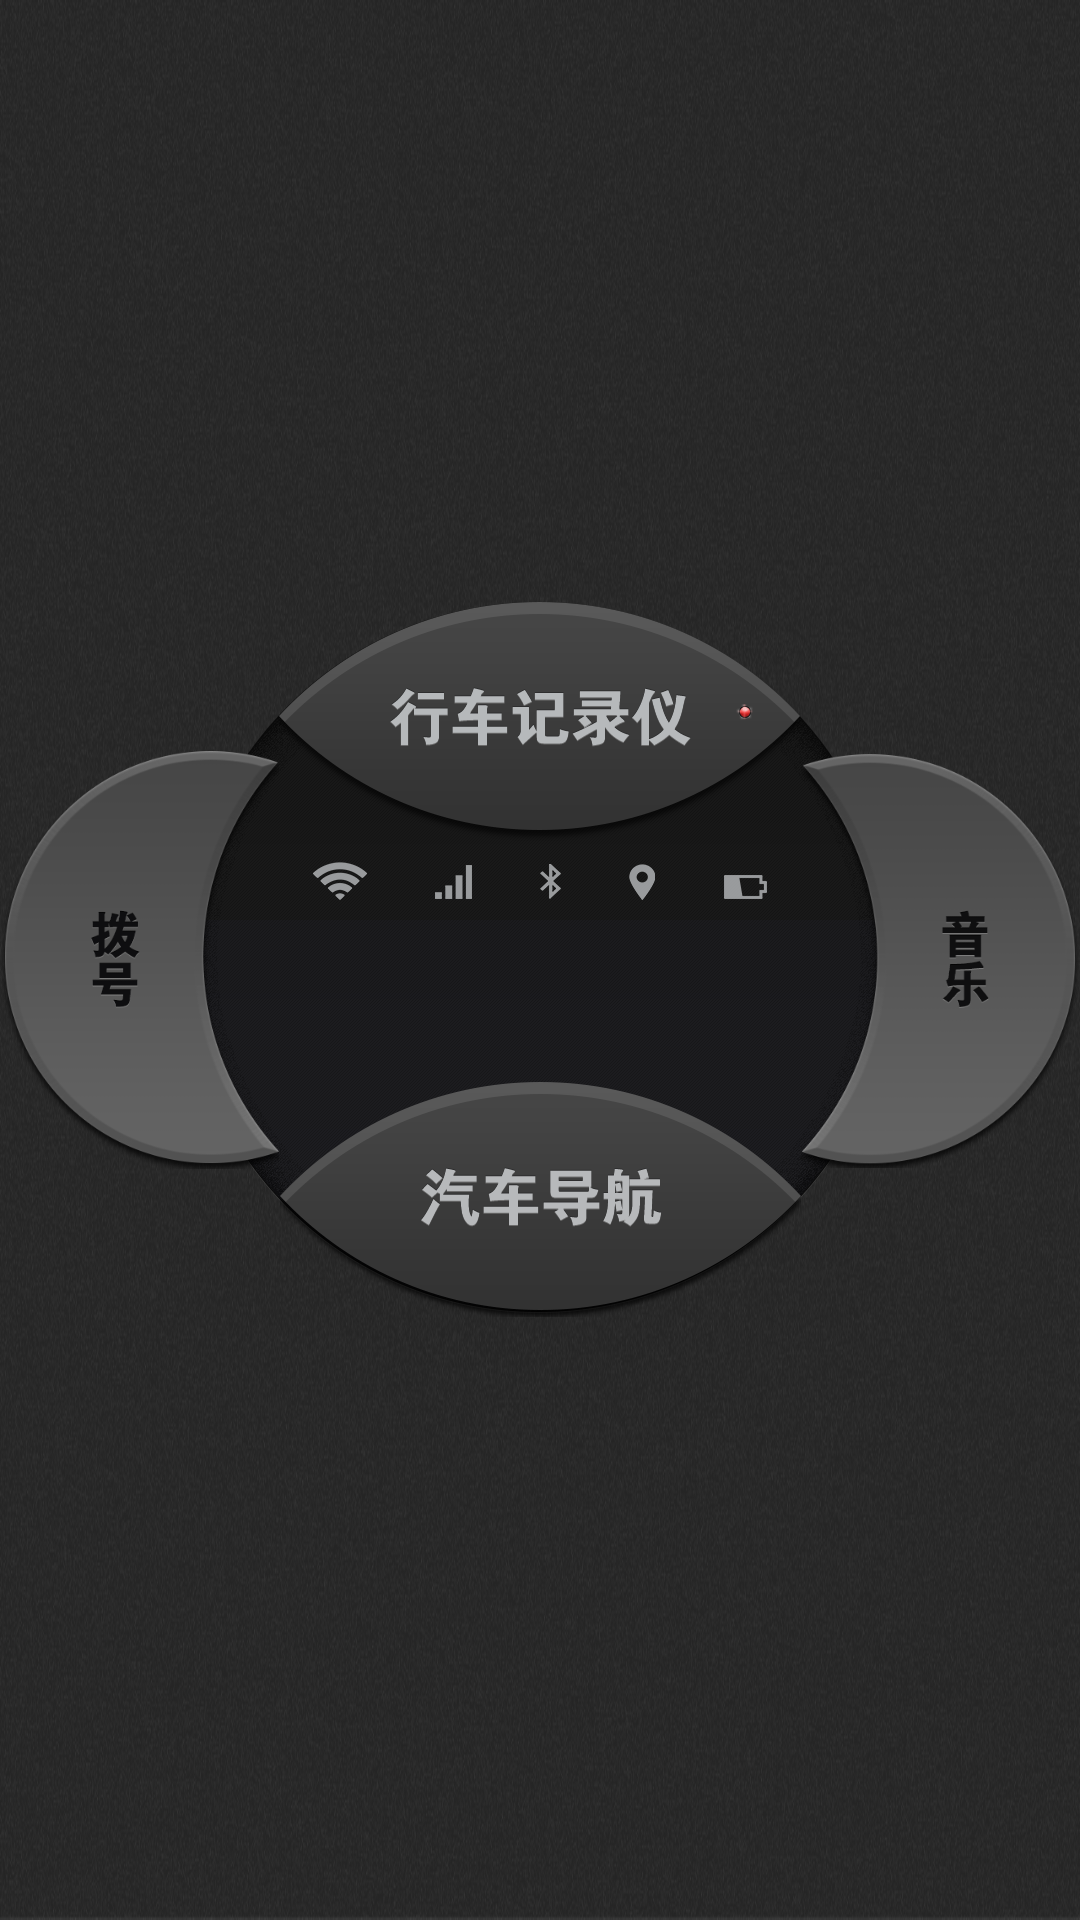

Where to tap for icons on this 1080×1920 app screen, as point (x, y):
battery: point (745, 887)
location: point (642, 882)
wifi: point (340, 881)
